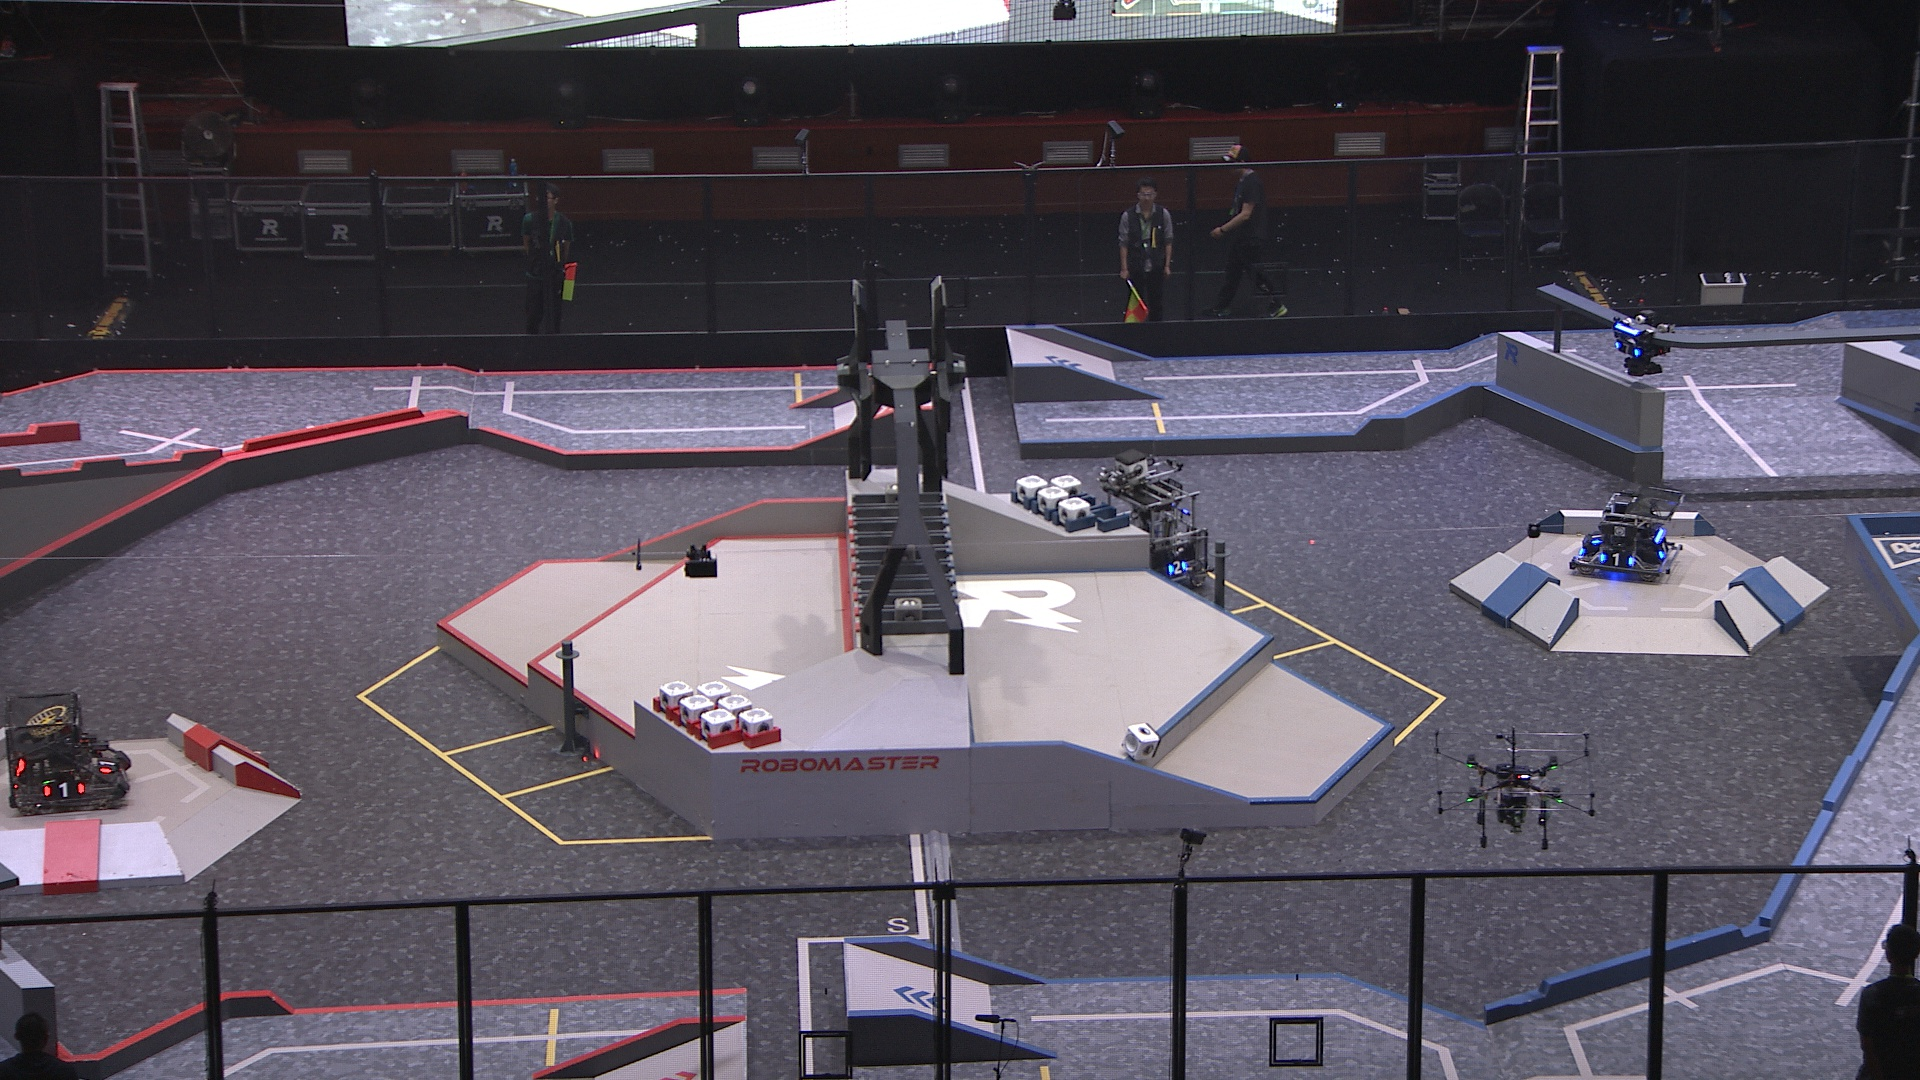armor: (41, 781, 84, 800), (1598, 551, 1636, 567), (96, 752, 119, 771), (1164, 560, 1188, 578), (1615, 342, 1640, 357), (1656, 541, 1669, 564), (1588, 531, 1604, 549)
car: (5, 690, 136, 822), (1098, 458, 1215, 589), (1571, 491, 1691, 584)
watcher: (1611, 311, 1679, 380)
